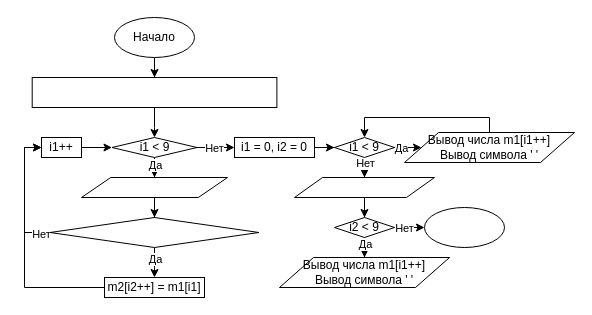
Some shapes in this 592 by 315 pixel diagram are drawn without their labels. The box of each missing label's shape, as (x1, y1, x2, y2) in pixels:
-7.7 < m1[i1] && m1[i1] < 18.8: (49, 216, 259, 248)
Ввод числа m1[i1]: (80, 176, 228, 198)
Вывод символа '\n': (294, 176, 434, 198)
Конец: (424, 206, 504, 248)
Массив вещественных чисел m1[9], m2[9] Числа i1 = 0, i2 = 0: (31, 76, 277, 108)
